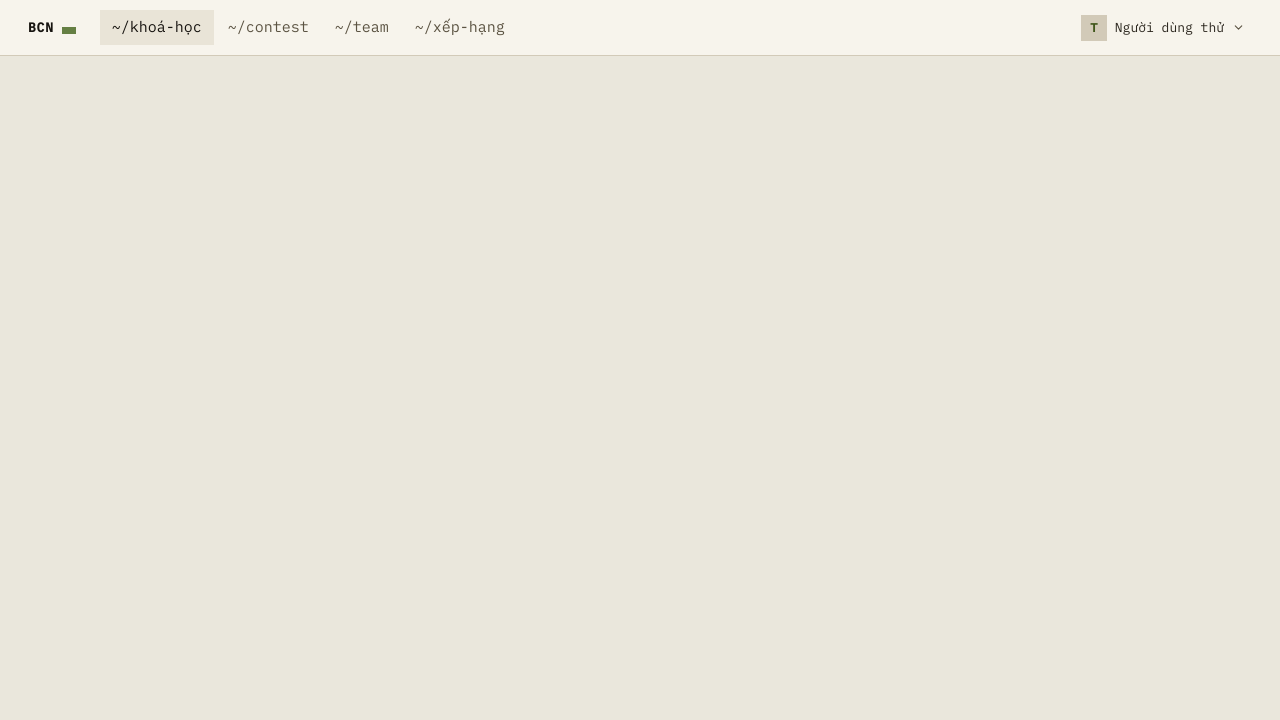
it: TopBar — đổi theme › bấm một lần thì đổi sang tối và ghi lên thẻ html
This screenshot has width=1280, height=720.
Click the button "T Người dùng thử" at (1163, 28), box [1074,10,1252,46]
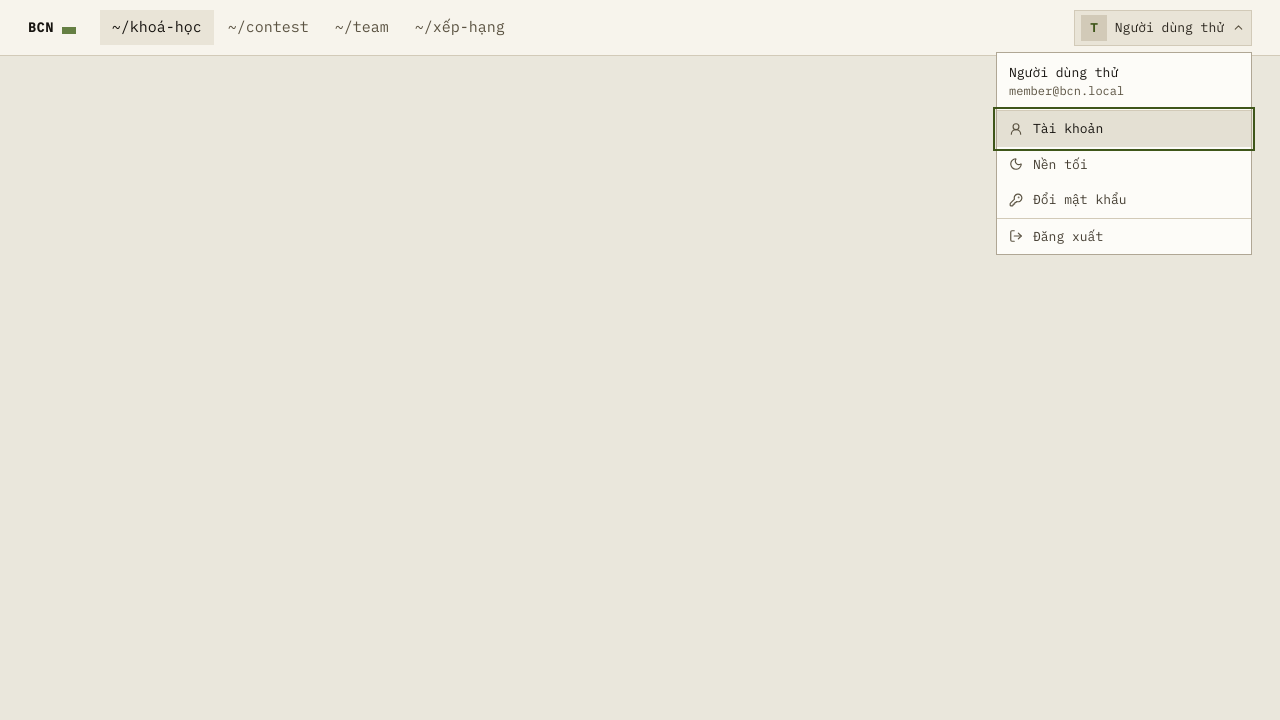
Click the menu item "Nền tối" at (1124, 164), box [997,146,1251,182]
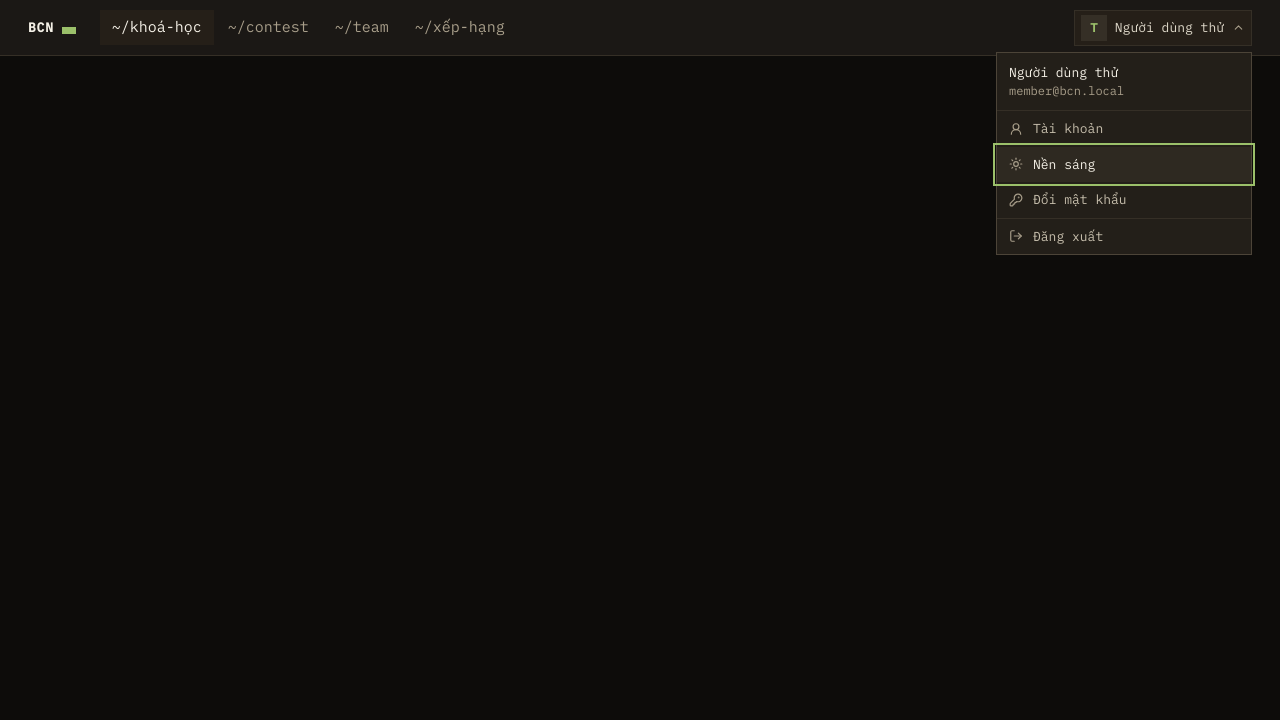
Check: the menu item "Nền sáng" is shown, box [997,146,1251,182]
